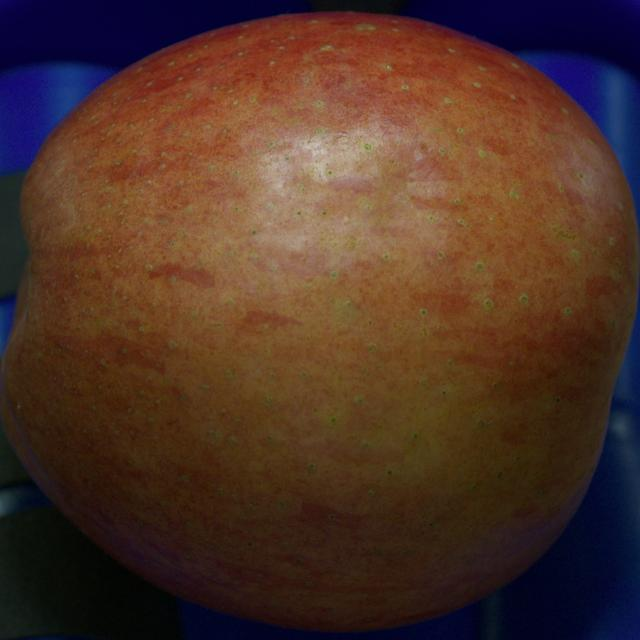apple: (0, 13, 639, 631)
